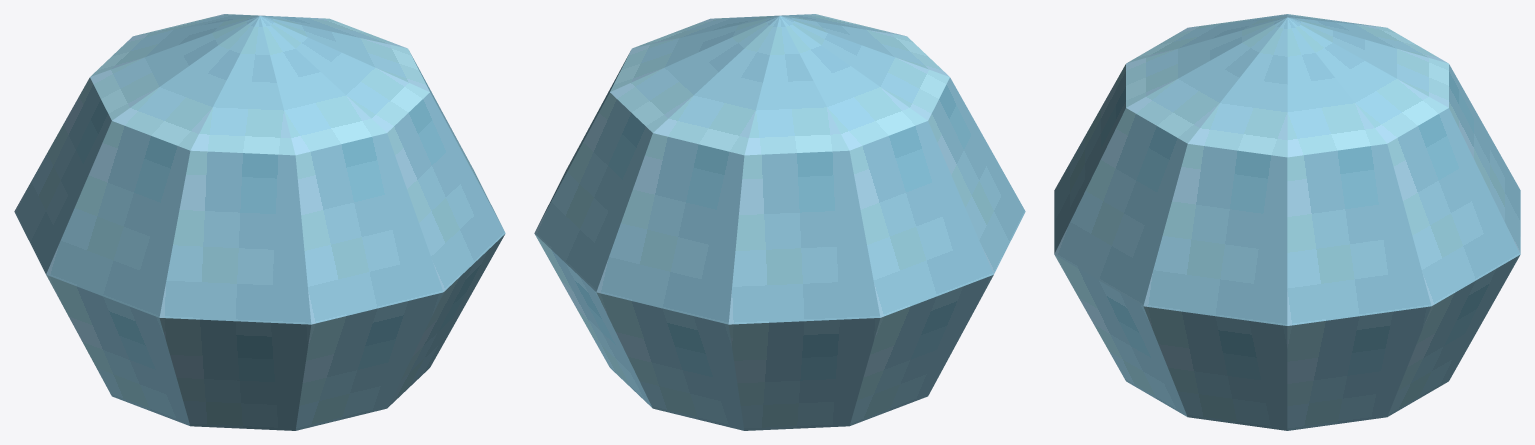
Rendered from bola_cristal.obj.
The picture shows the model from 3 angles, left to right: view 1: azimuth 30°, elevation 25°; view 2: azimuth 150°, elevation 25°; view 3: azimuth 270°, elevation 25°; orthographic projection.
Visible parts, largest first — view 1: bola_cristal; view 2: bola_cristal; view 3: bola_cristal.
Part boxes in pixels (box(x1,y1,x2,y2)): bola_cristal: box(14, 14, 505, 430); bola_cristal: box(534, 14, 1025, 430); bola_cristal: box(1054, 14, 1520, 430).
Size of the model in its own units: 0.26 by 0.24 by 0.2473.
Materials: 1 (1 with a texture image).
